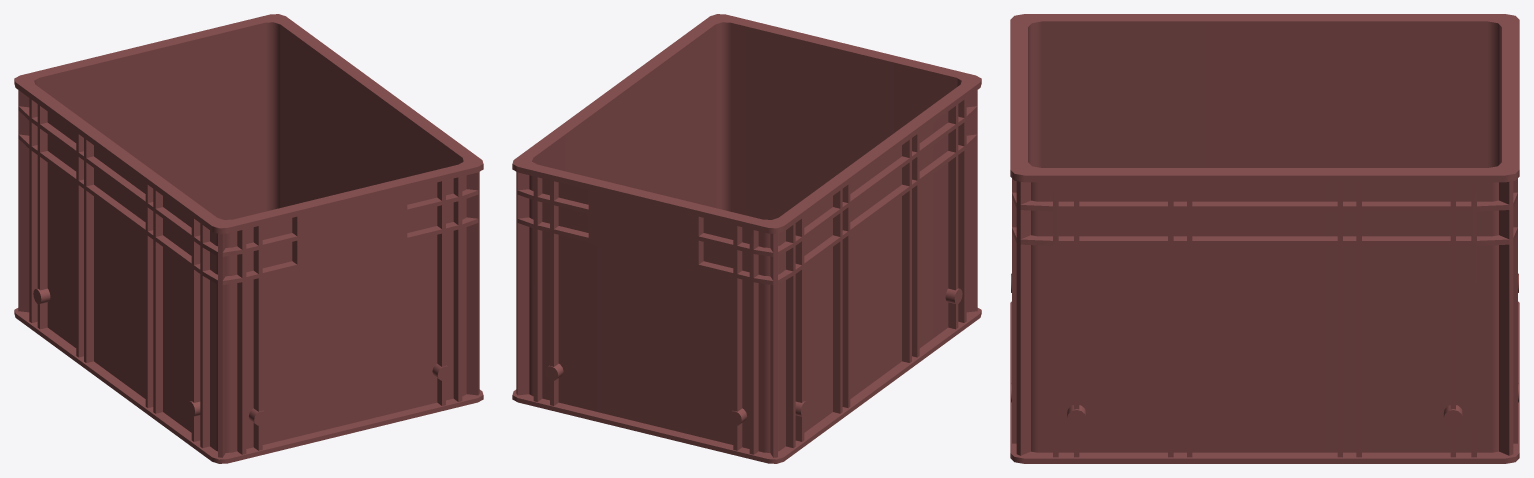
Rendered from kırmızıkasa.fbx.
The picture shows the model from 3 angles, left to right: view 1: azimuth 30°, elevation 25°; view 2: azimuth 150°, elevation 25°; view 3: azimuth 270°, elevation 25°; orthographic projection. The views are drawn at different scales.
Parts seen in each view (by area): view 1: SM_PlasticBox_04_Internal:Mesh; view 2: SM_PlasticBox_04_Internal:Mesh; view 3: SM_PlasticBox_04_Internal:Mesh.
Boxes of the visible parts, x1=… form: SM_PlasticBox_04_Internal:Mesh: x1=14, y1=14, x2=483, y2=463; SM_PlasticBox_04_Internal:Mesh: x1=512, y1=14, x2=981, y2=463; SM_PlasticBox_04_Internal:Mesh: x1=1010, y1=14, x2=1519, y2=463.
Size of the model in its own units: 60 by 49.98 by 80.
